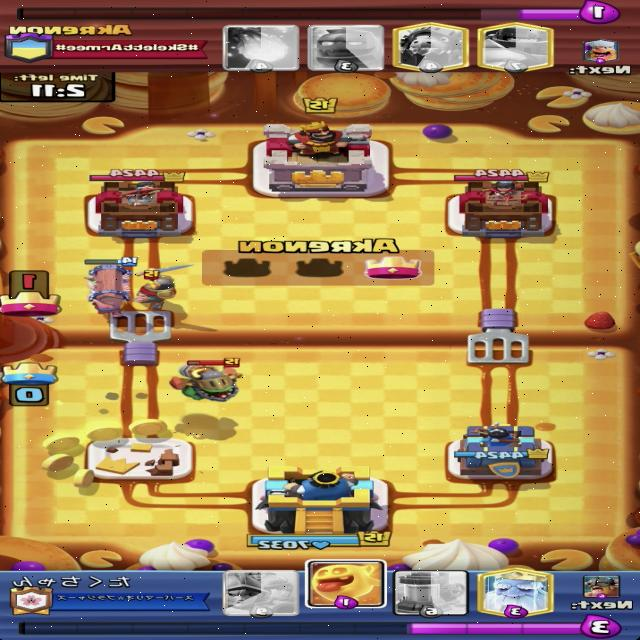Enemy-InfernoDragon: (167, 357, 246, 402)
Enemy-Knight: (129, 263, 194, 312)
Player-BattleRam: (82, 256, 139, 316)
